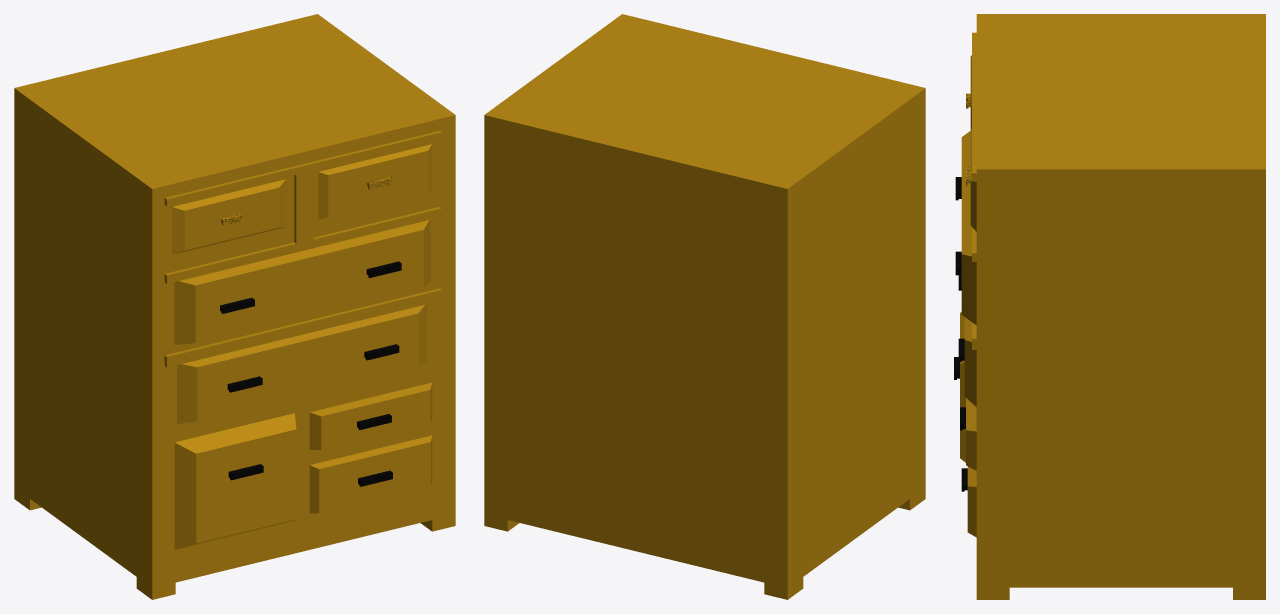
The model's file is Drawer.fbx.
The picture shows the model from 3 angles, left to right: view 1: azimuth 30°, elevation 25°; view 2: azimuth 150°, elevation 25°; view 3: azimuth 270°, elevation 25°; orthographic projection. The views are drawn at different scales.
Parts seen in each view (by area): view 1: wadrobe1; view 2: wadrobe1; view 3: wadrobe1.
Boxes of the visible parts, bbox=[...] form: wadrobe1: bbox=[14, 14, 455, 599]; wadrobe1: bbox=[484, 14, 925, 599]; wadrobe1: bbox=[960, 14, 1265, 599].
Bounding box in the file's own units: 2.45 × 3.17 × 2.08.
